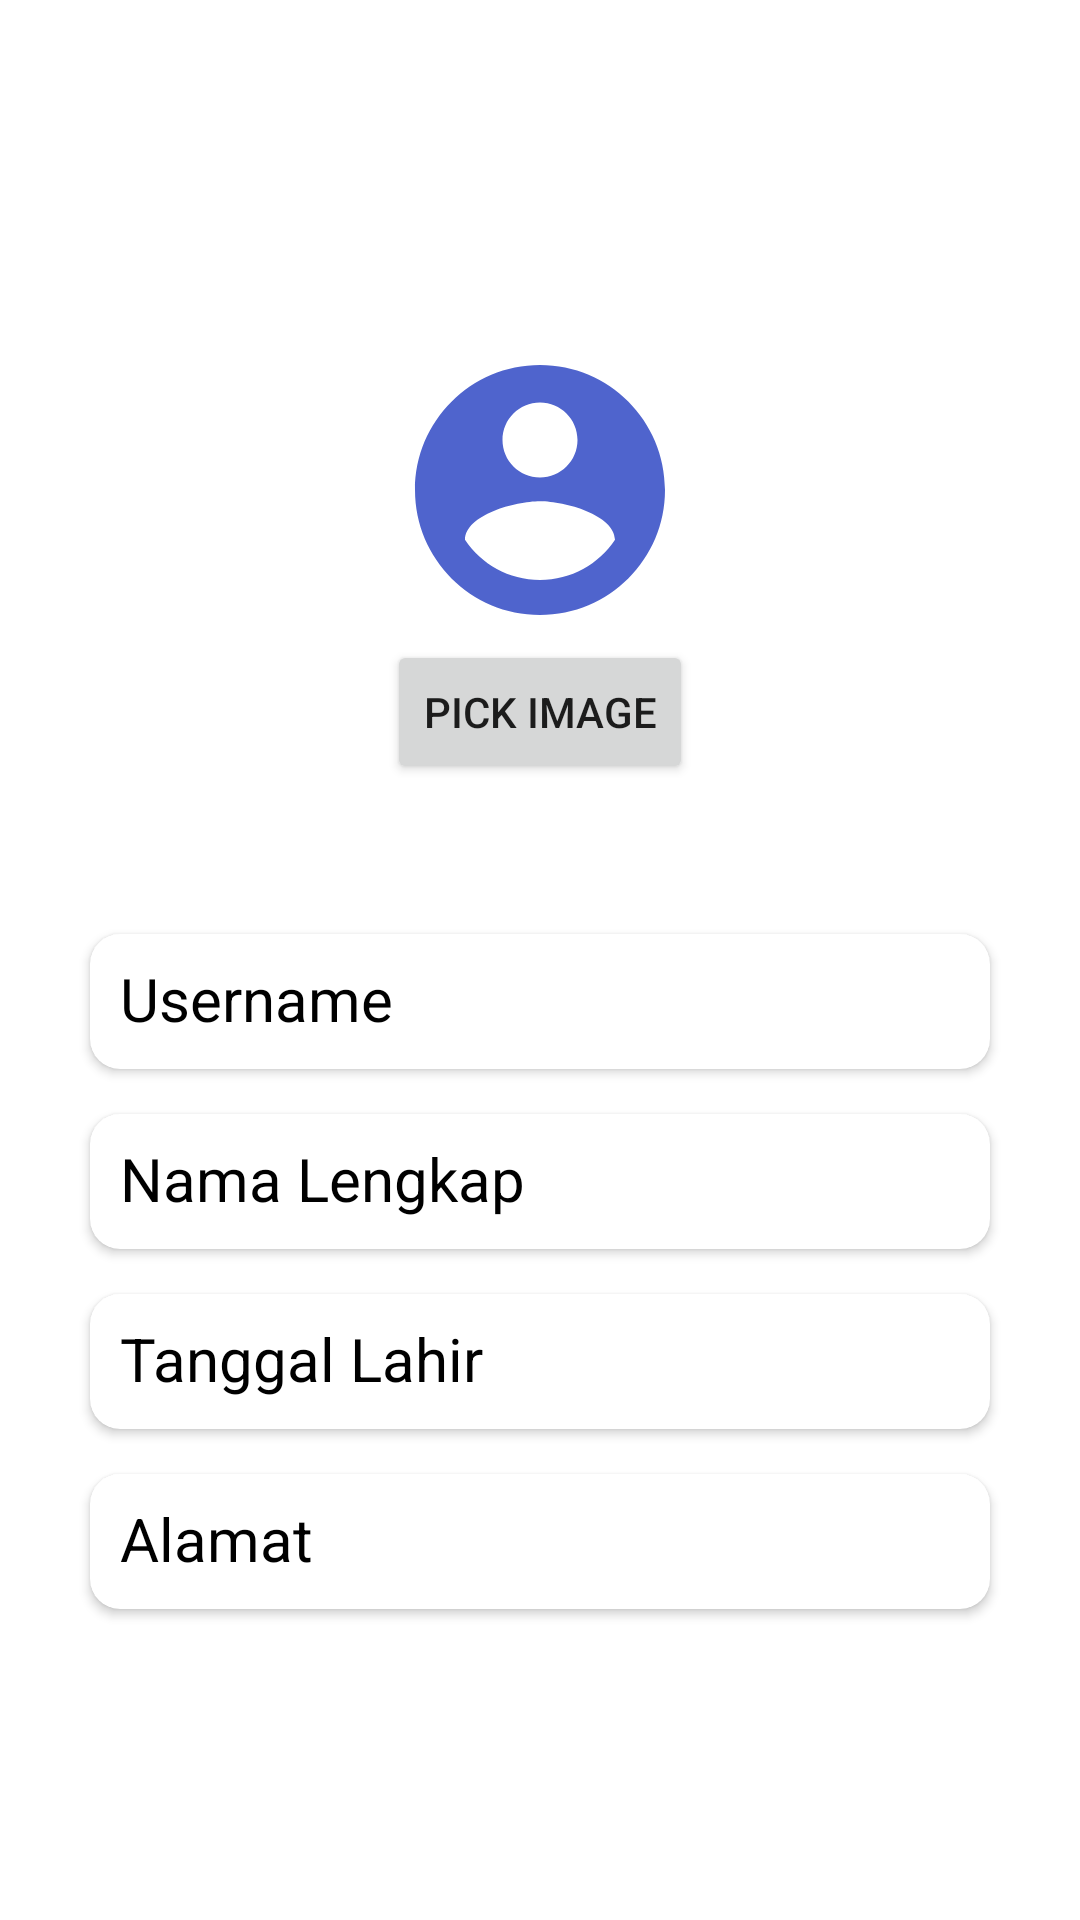

Screen size 1080 × 1920. Icon name, then its center in pixels as (x=x, y=y):
account circle: (x=540, y=490)
